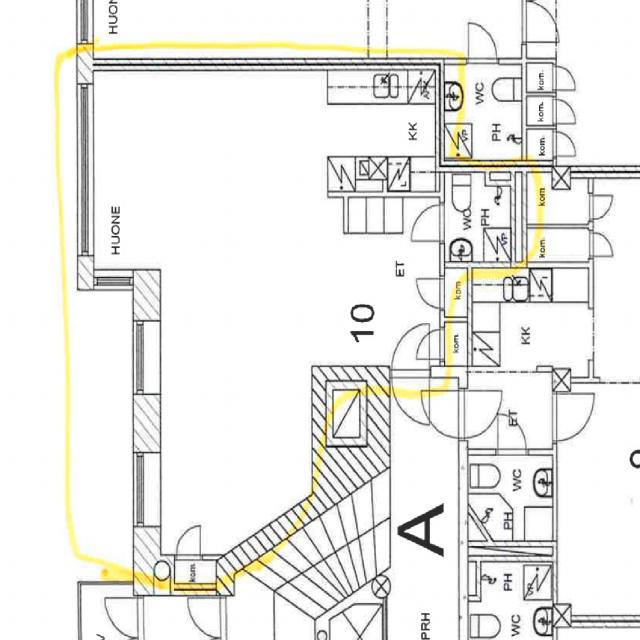door: (392, 320, 428, 378), (392, 366, 428, 424), (409, 204, 444, 242), (175, 522, 201, 560), (414, 328, 444, 360), (414, 278, 444, 310)
